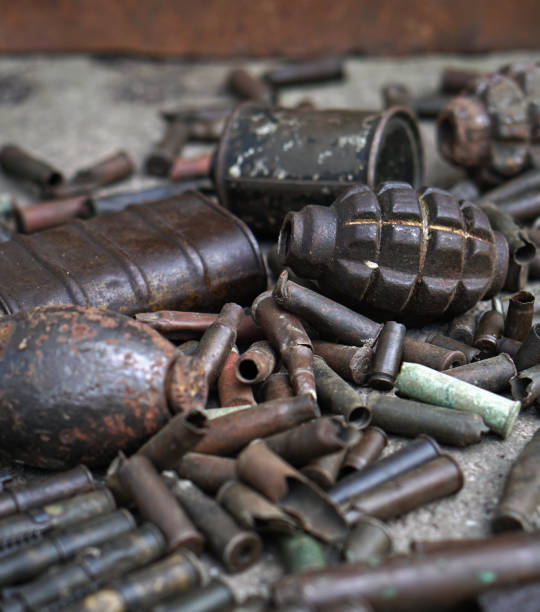e1: (267, 182, 514, 312)
